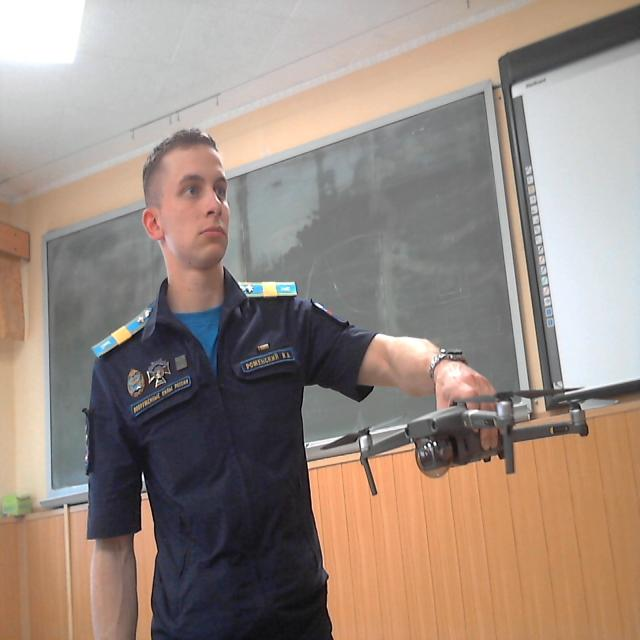drone: (296, 373, 640, 500)
